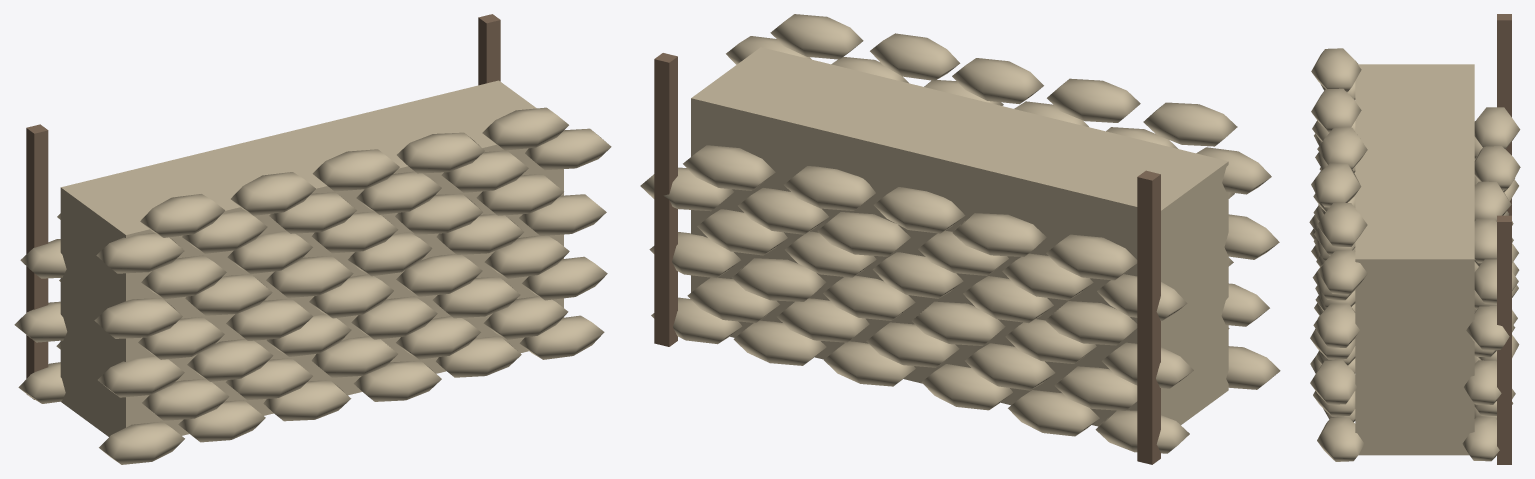
The model's file is CoverSandbags.glb.
3 renders of one model, left to right at view 1: azimuth 30°, elevation 25°; view 2: azimuth 150°, elevation 25°; view 3: azimuth 270°, elevation 25°, orthographic. The views are drawn at different scales.
Parts seen in each view (by area): view 1: CoverSandbags_cube.002, CoverSandbags_cube.003, CoverSandbags_sphere.196, CoverSandbags_sphere.165, CoverSandbags_sphere.195, CoverSandbags_sphere.197, CoverSandbags_sphere.121, CoverSandbags_sphere.187, CoverSandbags_sphere.124, CoverSandbags_sphere.194, CoverSandbags_sphere.158, CoverSandbags_sphere.193 (+38 smaller); view 2: CoverSandbags_cube.002, CoverSandbags_cube.003, CoverSandbags_cube.004, CoverSandbags_sphere.183, CoverSandbags_sphere.153, CoverSandbags_sphere.193, CoverSandbags_sphere.194, CoverSandbags_sphere.160, CoverSandbags_sphere.174, CoverSandbags_sphere.197, CoverSandbags_sphere.186, CoverSandbags_sphere.182 (+36 smaller); view 3: CoverSandbags_cube.002, CoverSandbags_cube.004, CoverSandbags_sphere.148, CoverSandbags_sphere.197, CoverSandbags_sphere.196, CoverSandbags_cube.003, CoverSandbags_sphere.193, CoverSandbags_sphere.192, CoverSandbags_sphere.126, CoverSandbags_sphere.170, CoverSandbags_sphere.194, CoverSandbags_sphere.183 (+14 smaller).
Boxes of the visible parts, x1,y1,x2,y2 form: CoverSandbags_cube.002: (60,80,563,436); CoverSandbags_cube.003: (26,124,48,399); CoverSandbags_sphere.196: (397,132,484,173); CoverSandbags_sphere.165: (94,298,182,338); CoverSandbags_sphere.195: (312,149,399,191); CoverSandbags_sphere.197: (482,107,568,150); CoverSandbags_sphere.121: (99,421,184,464); CoverSandbags_sphere.187: (96,233,184,273); CoverSandbags_sphere.124: (353,360,441,401); CoverSandbags_sphere.194: (231,172,315,215); CoverSandbags_sphere.158: (396,254,482,296); CoverSandbags_sphere.193: (140,194,224,237); CoverSandbags_cube.002: (691,47,1228,426); CoverSandbags_cube.003: (1137,170,1160,464); CoverSandbags_cube.004: (654,53,677,346); CoverSandbags_sphere.183: (952,213,1046,256); CoverSandbags_sphere.153: (732,258,826,301); CoverSandbags_sphere.193: (1143,102,1237,146); CoverSandbags_sphere.194: (1047,78,1140,122); CoverSandbags_sphere.160: (1045,301,1137,345); CoverSandbags_sphere.174: (817,212,910,256); CoverSandbags_sphere.197: (770,14,863,59); CoverSandbags_sphere.186: (683,145,775,190); CoverSandbags_sphere.182: (1046,234,1137,280); CoverSandbags_cube.002: (1355,64,1474,455); CoverSandbags_cube.004: (1497,215,1511,464); CoverSandbags_sphere.148: (1310,360,1356,404); CoverSandbags_sphere.197: (1317,203,1367,246); CoverSandbags_sphere.196: (1311,163,1361,207); CoverSandbags_cube.003: (1497,14,1511,215); CoverSandbags_sphere.193: (1311,48,1361,92); CoverSandbags_sphere.192: (1318,250,1367,294); CoverSandbags_sphere.126: (1317,417,1364,461); CoverSandbags_sphere.170: (1313,303,1359,347); CoverSandbags_sphere.194: (1311,88,1361,132); CoverSandbags_sphere.183: (1474,146,1520,189).
Bounding box in the file's own units: 3.58 × 1.8 × 1.42.
